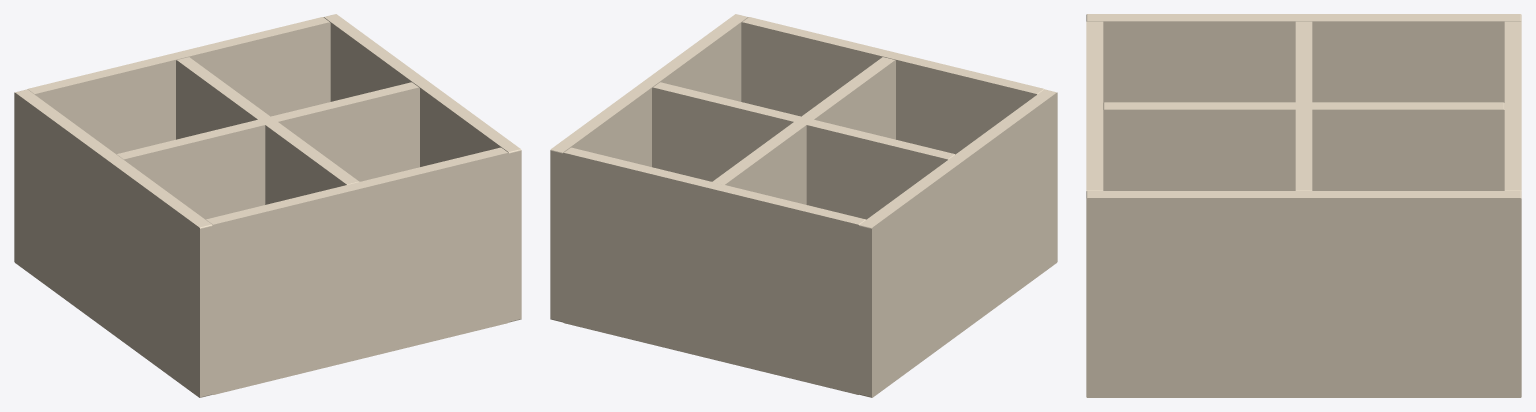
File: open_shelf.glb
3 views of the same model, side by side, from view 1: azimuth 30°, elevation 25°; view 2: azimuth 150°, elevation 25°; view 3: azimuth 270°, elevation 25° (orthographic). The views are drawn at different scales.
Parts seen in each view (by area): view 1: shelf_3, side, shelf, shelf_4, side_1, divider; view 2: shelf, side, shelf_4, shelf_3, side_1, divider; view 3: side_1, side, divider, shelf, shelf_3, shelf_4.
Boxes of the visible parts, bbox=[...] form: shelf_3: bbox=[206, 147, 508, 394]; side: bbox=[14, 89, 212, 397]; shelf: bbox=[27, 17, 330, 154]; shelf_4: bbox=[117, 82, 419, 219]; side_1: bbox=[323, 14, 521, 322]; divider: bbox=[176, 57, 359, 204]; shelf: bbox=[563, 147, 865, 394]; side: bbox=[859, 89, 1057, 397]; shelf_4: bbox=[652, 82, 954, 219]; shelf_3: bbox=[741, 17, 1044, 154]; side_1: bbox=[550, 14, 748, 322]; divider: bbox=[712, 57, 895, 204]; side_1: bbox=[1086, 191, 1521, 397]; side: bbox=[1086, 14, 1521, 102]; divider: bbox=[1103, 102, 1504, 190]; shelf: bbox=[1504, 21, 1521, 190]; shelf_3: bbox=[1086, 21, 1103, 190]; shelf_4: bbox=[1295, 21, 1312, 190].
Size of the model in its own units: 0.77 by 0.39 by 0.77.
